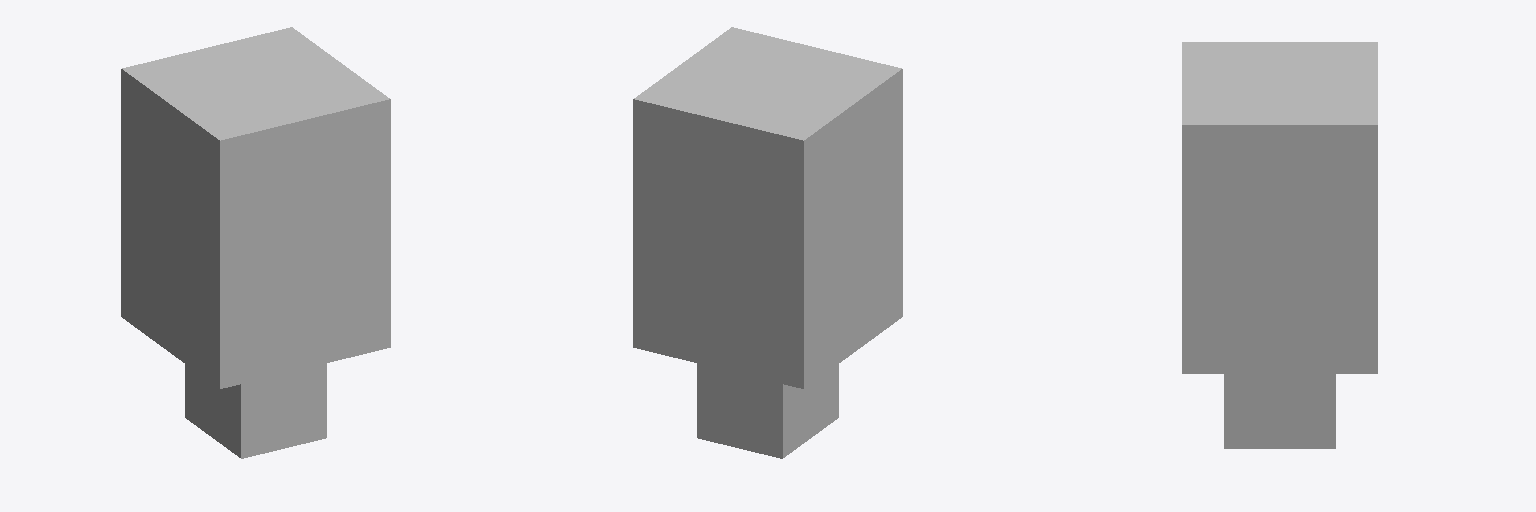
File: tree1.obj
3 renders of one model, left to right at view 1: azimuth 30°, elevation 25°; view 2: azimuth 150°, elevation 25°; view 3: azimuth 270°, elevation 25°, orthographic.
Parts seen in each view (by area): view 1: object 1; view 2: object 1; view 3: object 1.
Part boxes in pixels (x1,y1,x2,y2): object 1: (121,27,390,458); object 1: (633,27,902,458); object 1: (1182,42,1377,448).
Bounding box in the file's own units: 2.8 × 5.4 × 2.8.